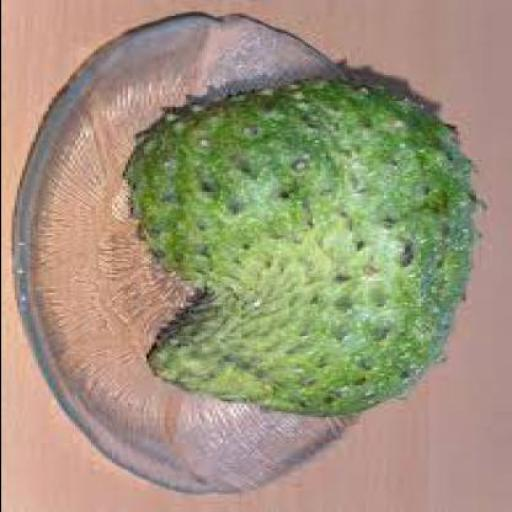biodegradable: (121, 75, 486, 415)
